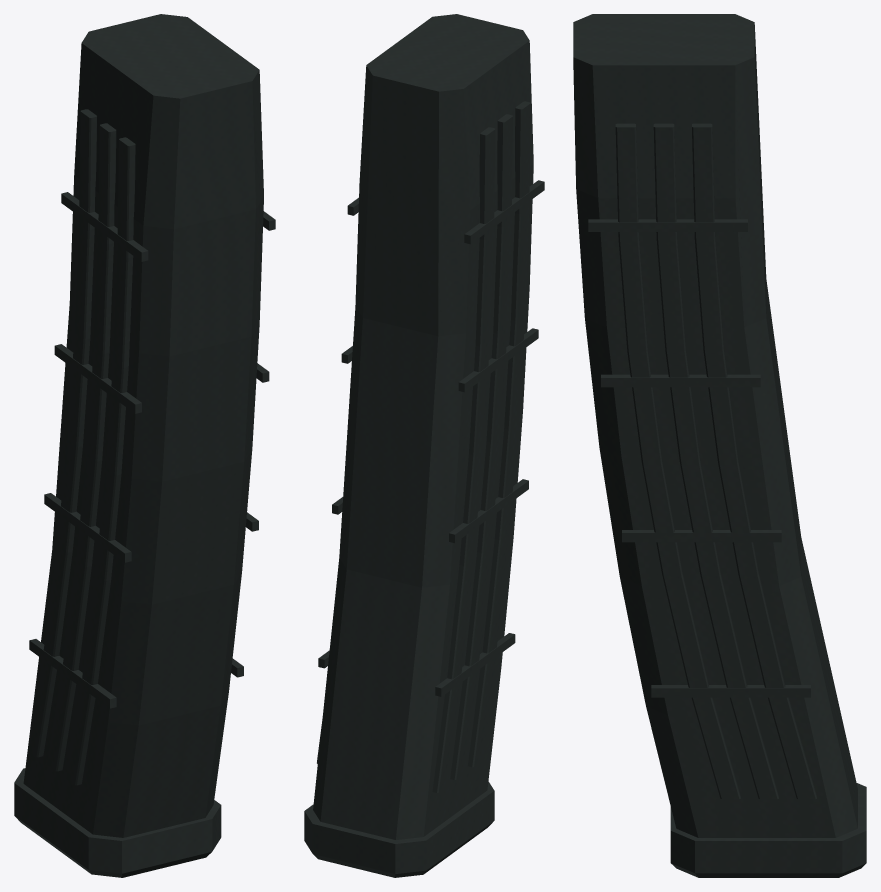
Rendered from mpx_30.glb.
3 renders of one model, left to right at view 1: azimuth 30°, elevation 25°; view 2: azimuth 150°, elevation 25°; view 3: azimuth 270°, elevation 25°, orthographic. The views are drawn at different scales.
Visible parts, largest first — view 1: mpx_30_individual_shell, mpx_30_individual_shell.001; view 2: mpx_30_individual_shell.001, mpx_30_individual_shell; view 3: mpx_30_individual_shell, mpx_30_individual_shell.001.
Boxes of the visible parts, left/top/right/bottom form: mpx_30_individual_shell: left=14, top=14, right=275, bottom=877; mpx_30_individual_shell.001: left=23, top=304, right=138, bottom=833; mpx_30_individual_shell.001: left=313, top=66, right=529, bottom=839; mpx_30_individual_shell: left=304, top=14, right=544, bottom=877; mpx_30_individual_shell: left=573, top=14, right=866, bottom=877; mpx_30_individual_shell.001: left=607, top=25, right=857, bottom=837.
Bounding box in the file's own units: 0.06 × 0.349 × 0.1148.
1 material, 1 textured.
